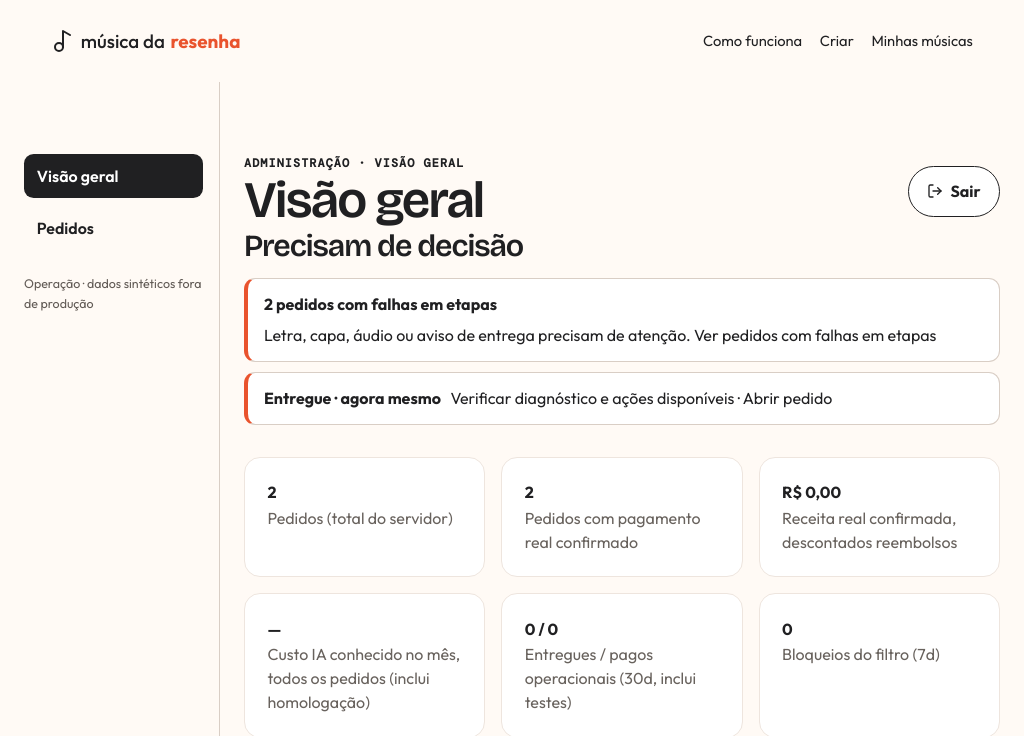
cockpit administrativo › descobre falhas de etapas no overview, abre filtro operacional e permite removê-lo
expect the text "2 pedidos com falhas em etapas" is shown: met, box [264,292,497,317]
What coordinates should you click on to do the following:
click the link "Ver pedidos com falhas em etapas"
I would click on:
 (815, 335)
Its box is [694,325,936,345].
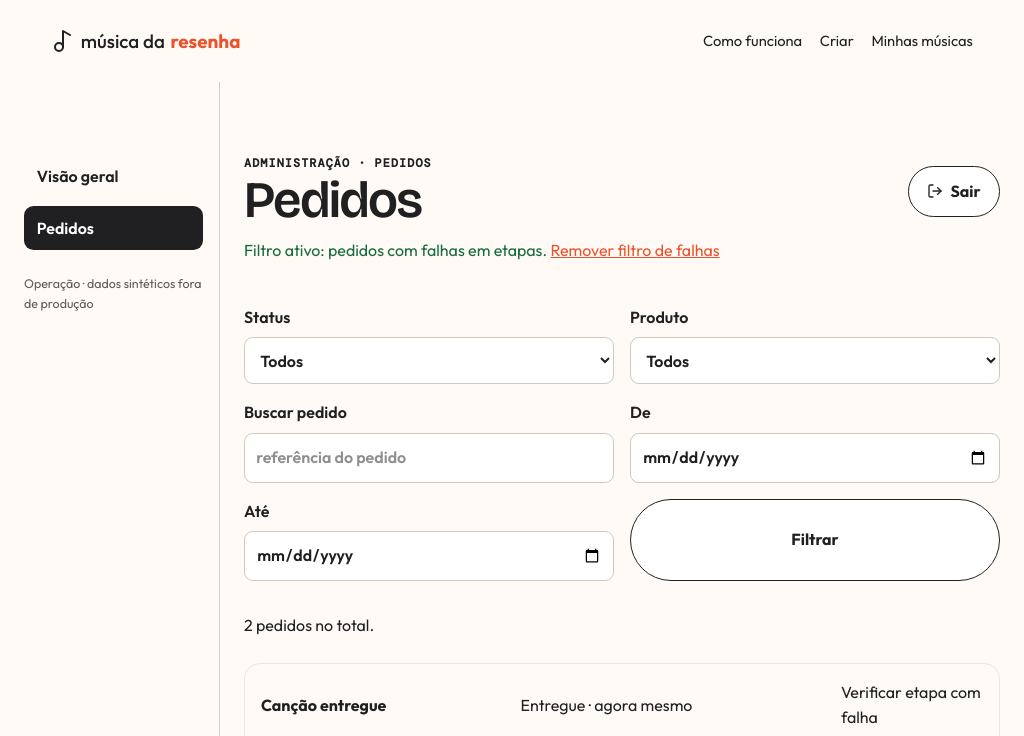
expect the text "Filtro ativo: pedidos com falhas em etapas" is shown: met, box [244,240,547,260]
expect the text "Verificar etapa com falha" is shown: met, box [841,680,983,731]
What coordinates should you click on to do the following:
click the button "Remover filtro de falhas"
I would click on:
 (635, 251)
Its box is [550,229,720,273].
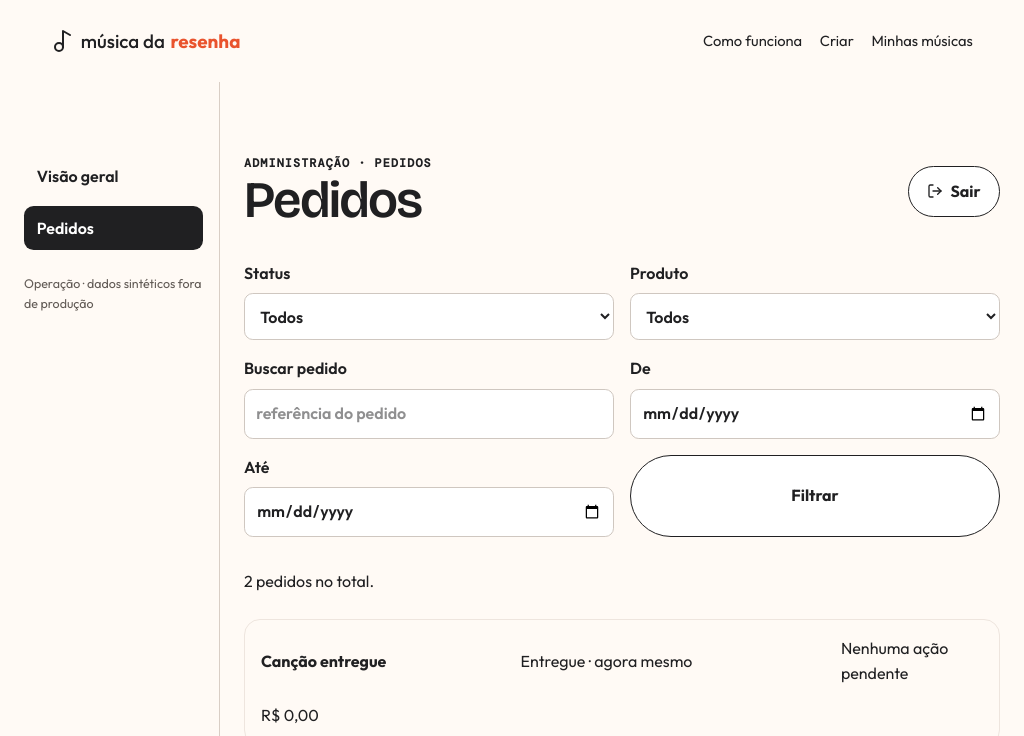
expect the text "Filtro ativo: pedidos com falhas em etapas" is gone: met
